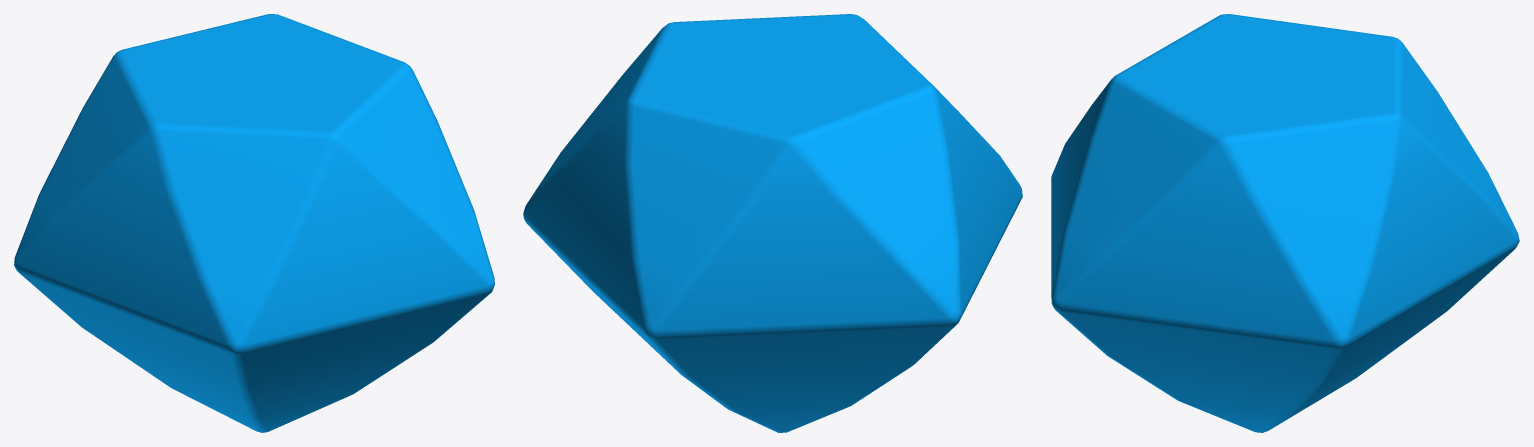
3 views of the same model, side by side, from view 1: azimuth 30°, elevation 25°; view 2: azimuth 150°, elevation 25°; view 3: azimuth 270°, elevation 25° (orthographic). The views are drawn at different scales.
Visible parts, largest first — view 1: model_0.098; view 2: model_0.098; view 3: model_0.098.
Part boxes in pixels (x1,y1,x2,y2): model_0.098: (14,14,494,432); model_0.098: (523,14,1022,432); model_0.098: (1051,14,1519,432).
Size of the model in its own units: 3.81 by 3.06 by 3.64.
